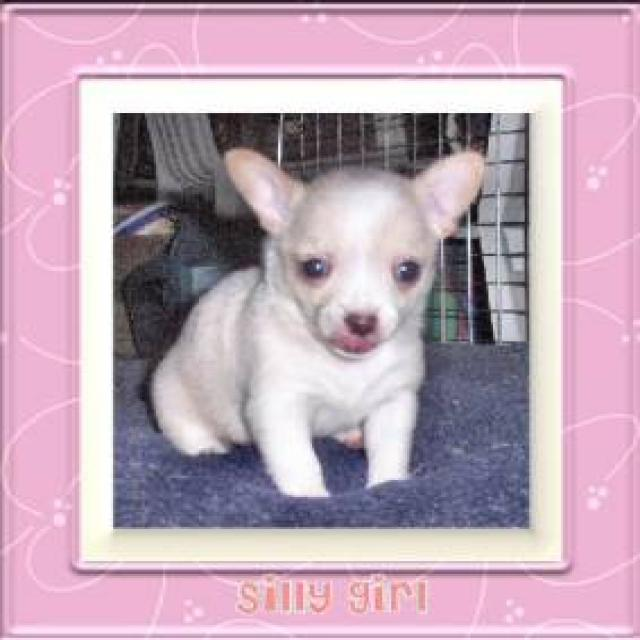dog-chihuahua: (142, 141, 495, 503)
